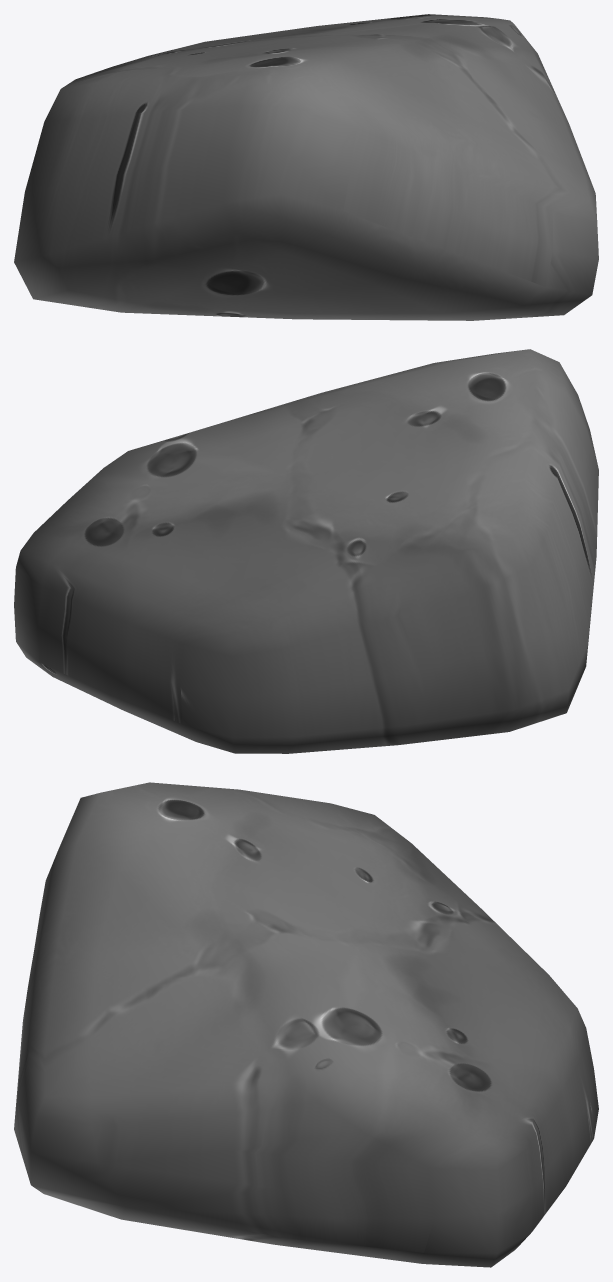
File: SM_ENV_stone_13.fbx
3 renders of one model, top to bottom at view 1: azimuth 30°, elevation 25°; view 2: azimuth 150°, elevation 25°; view 3: azimuth 270°, elevation 25°, orthographic. The views are drawn at different scales.
Visible parts, largest first — view 1: SM_ENV_stone_13_LOD0; view 2: SM_ENV_stone_13_LOD0; view 3: SM_ENV_stone_13_LOD0.
Boxes of the visible parts, <box> form: SM_ENV_stone_13_LOD0: <box>14,14,598,320</box>; SM_ENV_stone_13_LOD0: <box>14,349,598,753</box>; SM_ENV_stone_13_LOD0: <box>14,782,598,1267</box>.
Size of what is drawn, in the model's own units: 298 by 156 by 272.
